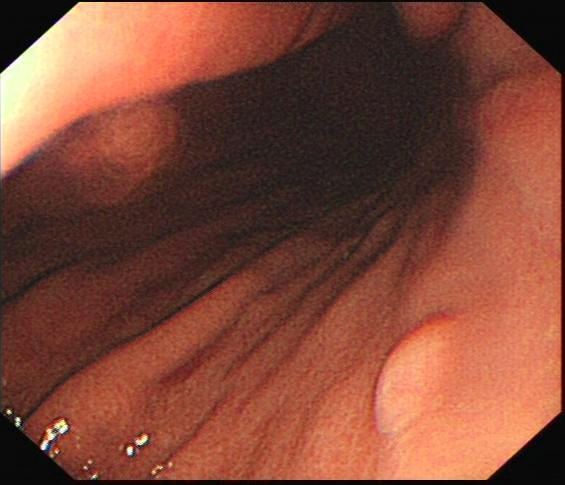Polyp: (369, 319, 454, 434)
